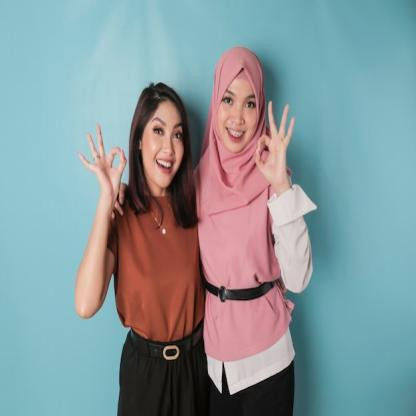ok: (76, 120, 129, 210), (252, 97, 296, 189)
